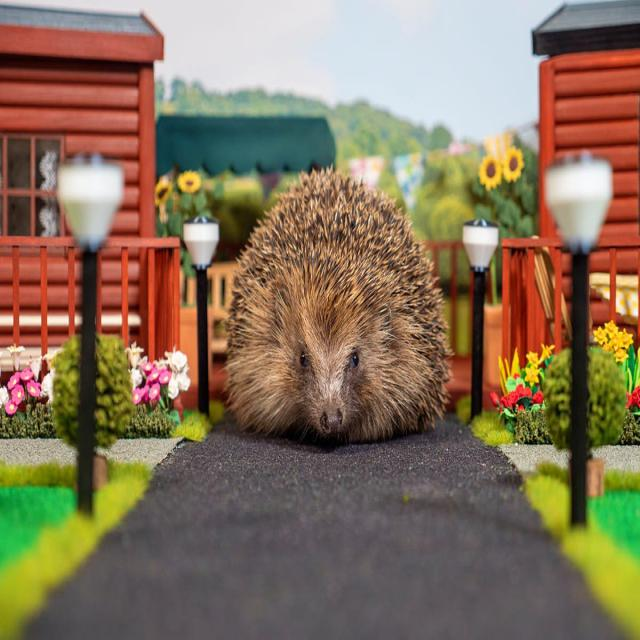Hedgehog: (220, 153, 458, 447)
